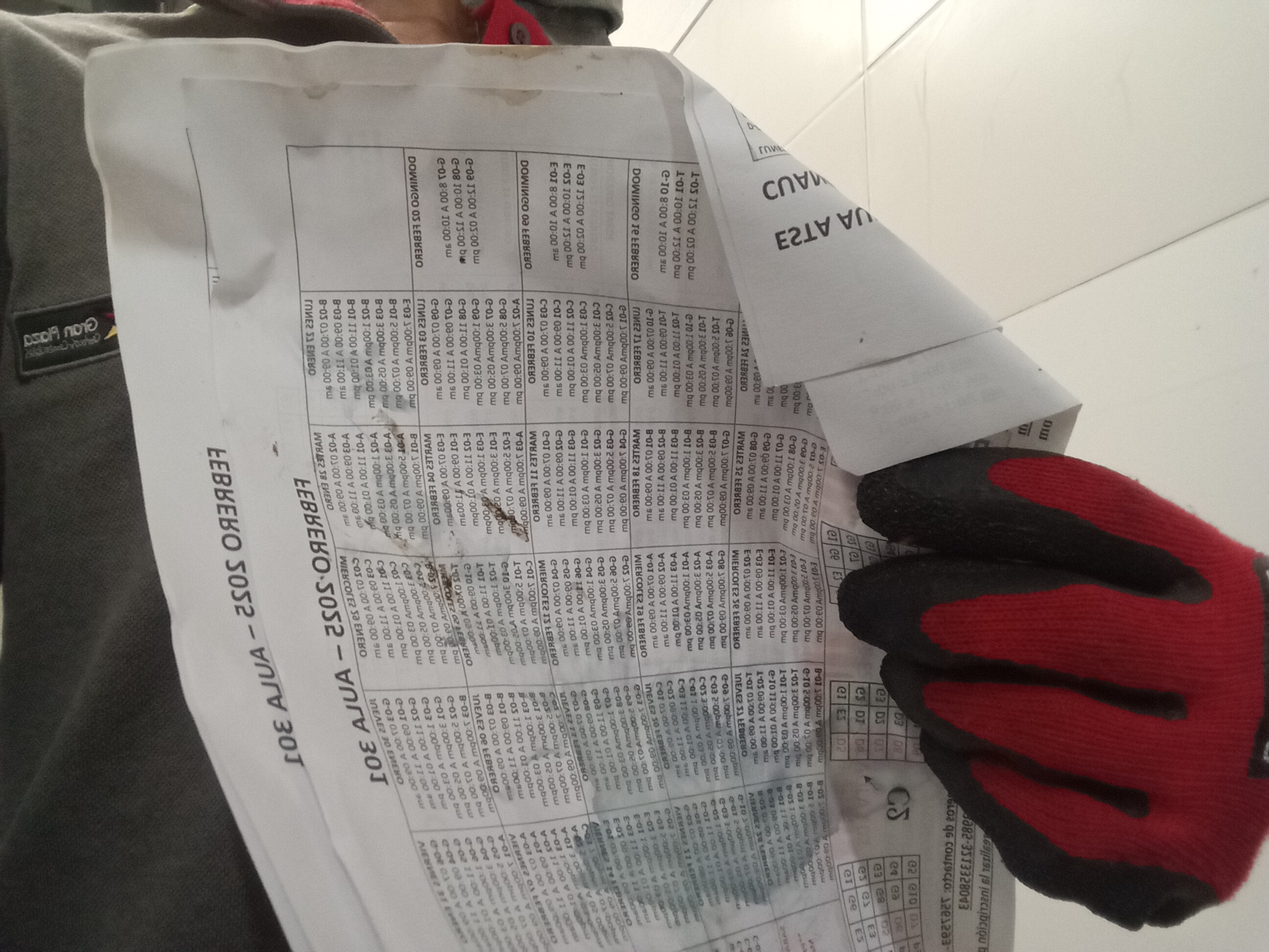Papel: (80, 37, 1084, 952)
